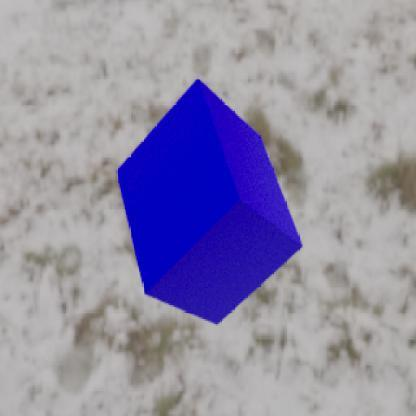cube: (115, 76, 302, 326)
